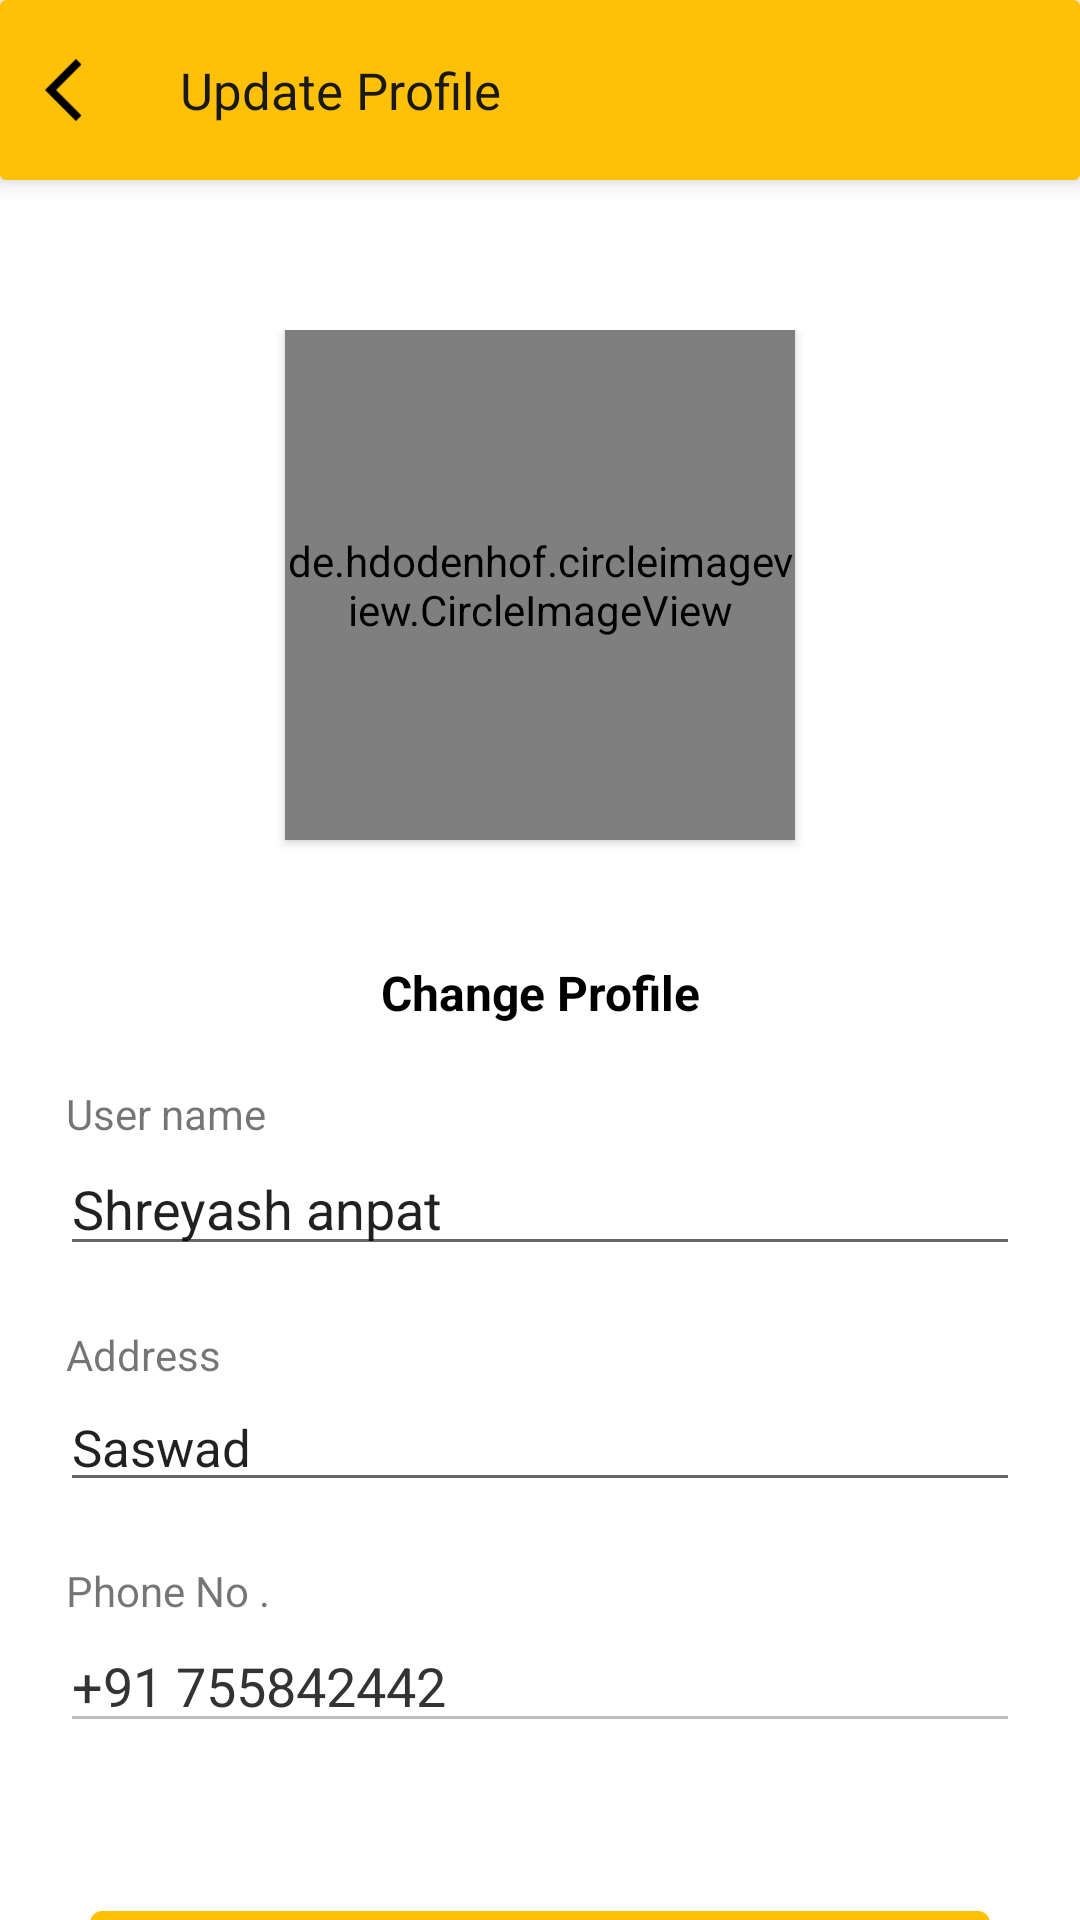

Icon click points for this 1080×1920 phone screenshot, format (x=x, y=y):
arrow back: (x=63, y=90)
